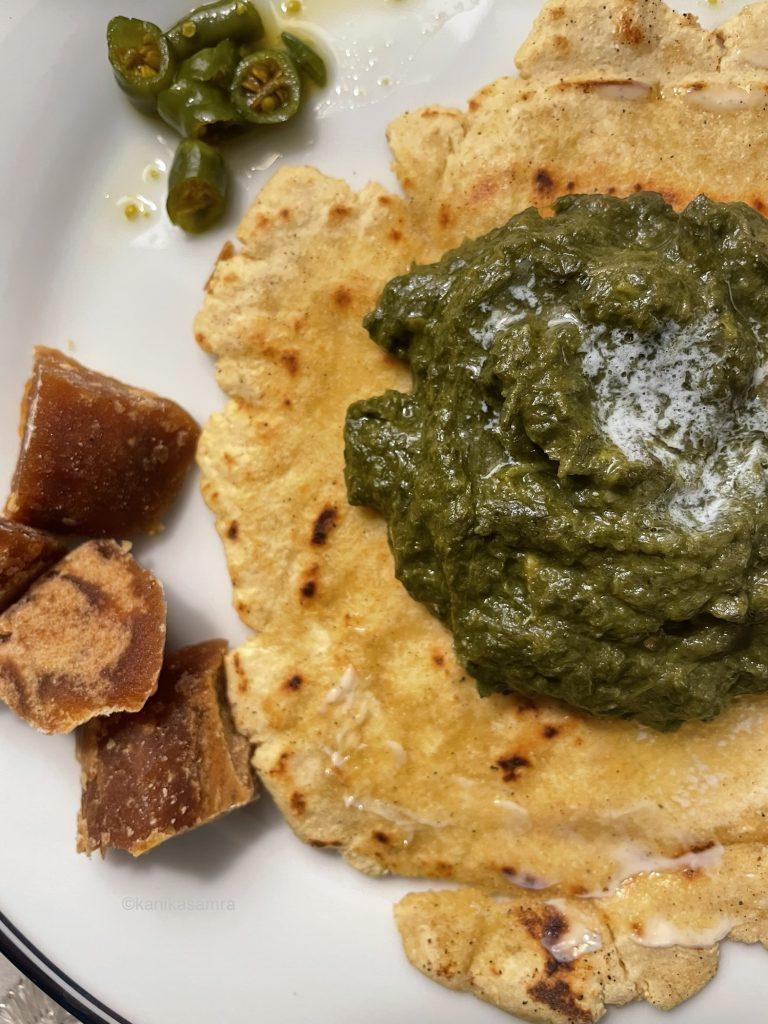saag: (344, 190, 768, 710)
